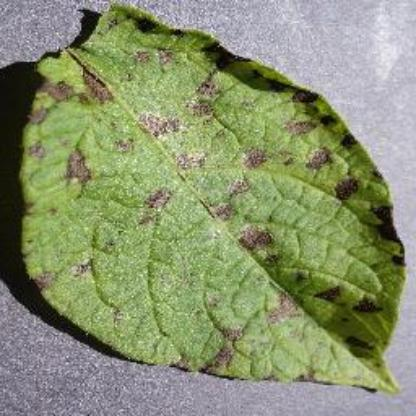Early-Blight: (7, 0, 415, 398)
